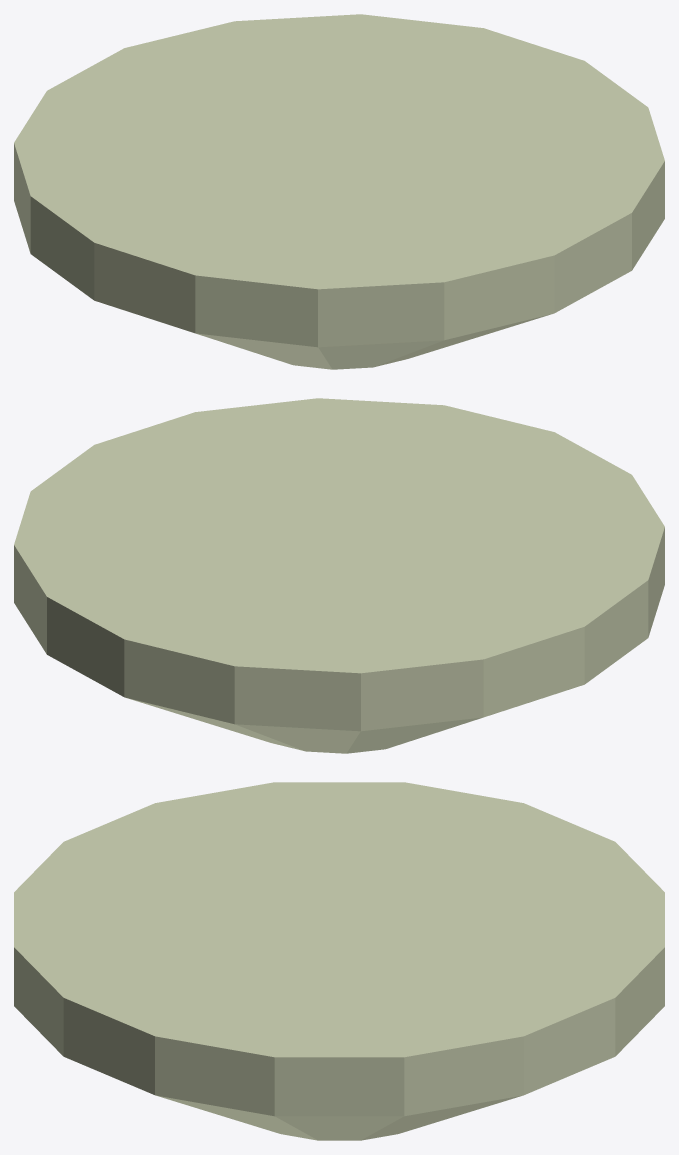
Rendered from AndromedaUS_Engine_1_Collider.obj.
3 views of the same model, one above another, from view 1: azimuth 30°, elevation 25°; view 2: azimuth 150°, elevation 25°; view 3: azimuth 270°, elevation 25° (orthographic).
Visible parts, largest first — view 1: AndromedaUS_Engine_1_Collider; view 2: AndromedaUS_Engine_1_Collider; view 3: AndromedaUS_Engine_1_Collider.
Boxes of the visible parts, box(x1,y1,x2,y2) form: AndromedaUS_Engine_1_Collider: box(14, 14, 664, 369); AndromedaUS_Engine_1_Collider: box(14, 398, 664, 753); AndromedaUS_Engine_1_Collider: box(14, 782, 664, 1140).
Size of the model in its own units: 1.25 by 0.375 by 1.25.
